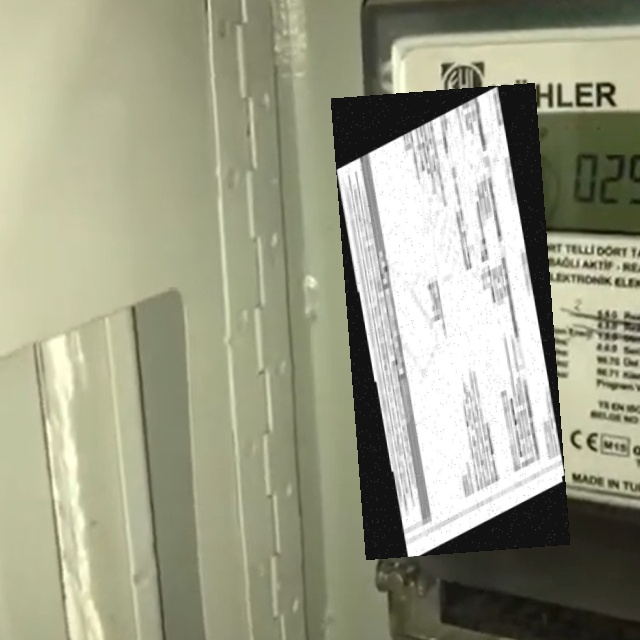electricity-bill: (331, 83, 569, 560)
